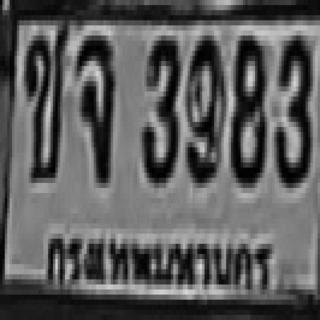A08: (74, 31, 113, 178)
A10: (24, 20, 67, 178)
N03: (140, 31, 178, 178), (274, 31, 310, 183)
N08: (228, 31, 264, 183)
N09: (185, 31, 221, 178)
P04: (42, 223, 278, 300)
